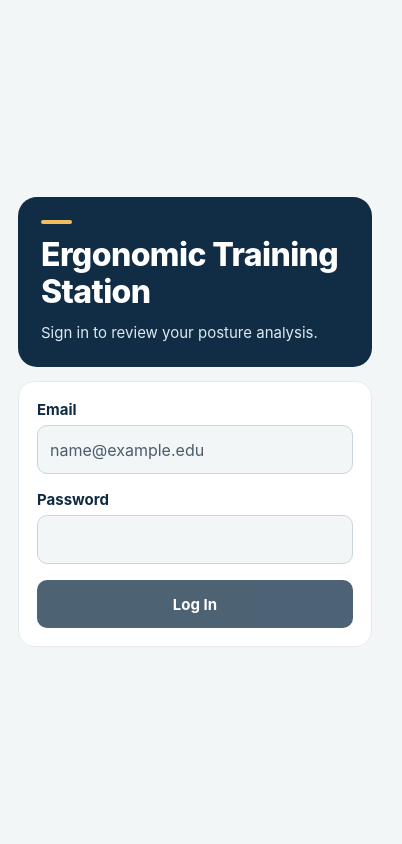
it: signs in, restores from SecureStore through /auth/me, and removes credentials on logout
Later steps or results of the test are not shown.
Type "resident@example.test" into the field named "Email" at (195, 450), box [37, 425, 353, 474]
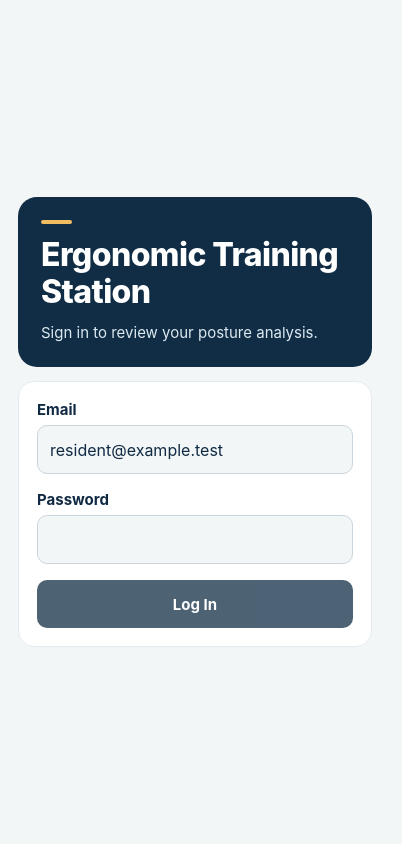
Type "example-only-password" into the password field named "Password" at (195, 540), box [37, 515, 353, 564]
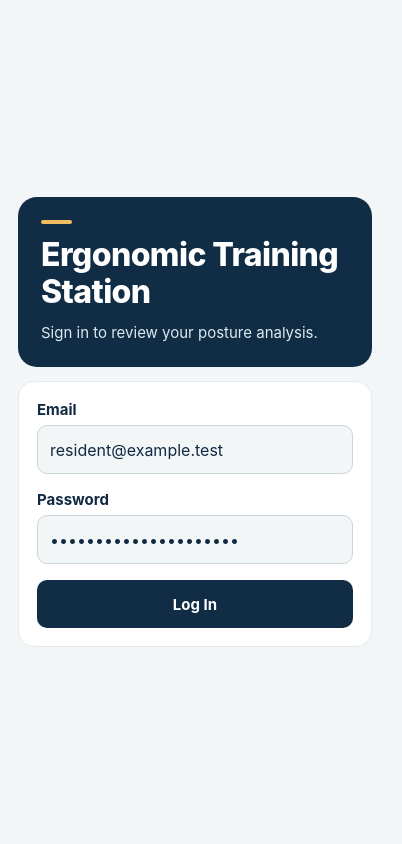
Click the button "Log In" at (195, 604), box [37, 580, 353, 628]
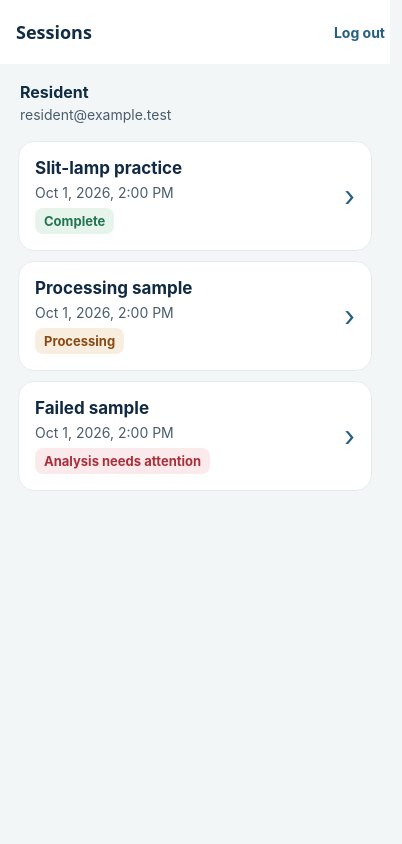
Now the text "Slit-lamp practice" is shown, box [35, 158, 182, 178]
Now the text "Processing" is shown, box [44, 333, 115, 349]
Now the text "Analysis needs attention" is shown, box [44, 453, 201, 469]
